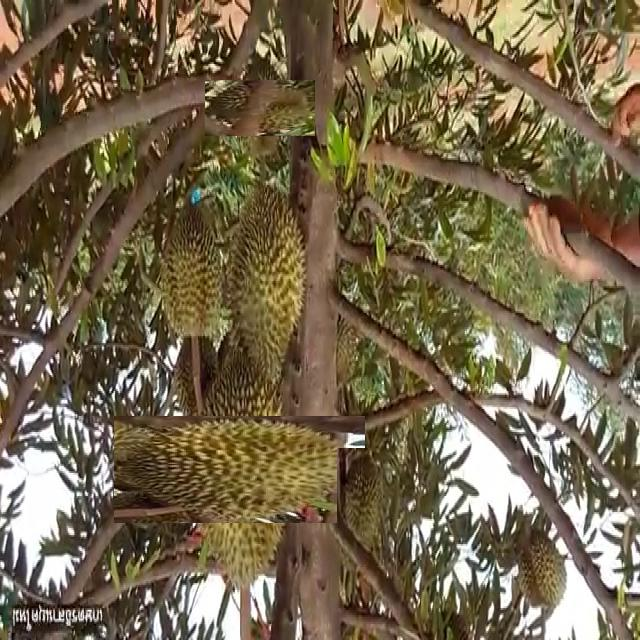durian: (150, 380, 329, 559), (224, 184, 306, 406), (154, 200, 225, 346), (218, 66, 301, 150), (337, 448, 382, 566), (312, 301, 366, 391), (514, 529, 568, 612)
